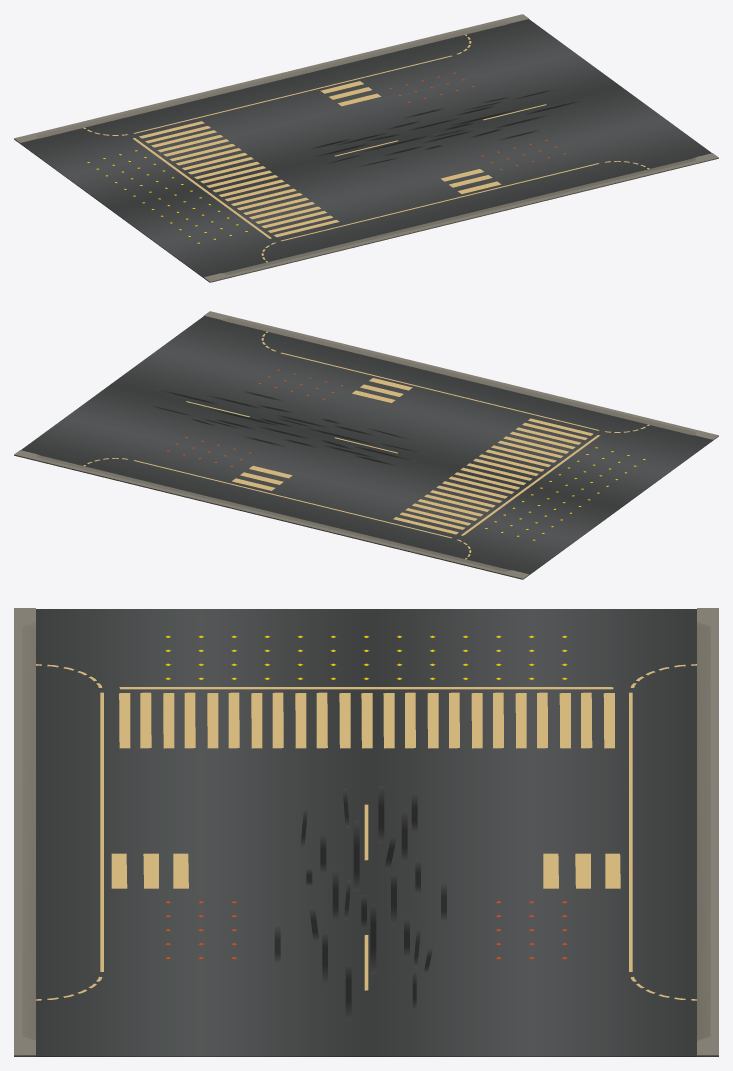
File: tp_runway_02a.glb
The picture shows the model from 3 angles, top to bottom: view 1: azimuth 30°, elevation 25°; view 2: azimuth 150°, elevation 25°; view 3: azimuth 270°, elevation 25°; orthographic projection. The views are drawn at different scales.
Visible parts, largest first — view 1: TP_Runway_02A; view 2: TP_Runway_02A; view 3: TP_Runway_02A.
Part boxes in pixels (bbox=[...]): TP_Runway_02A: bbox=[14, 14, 718, 282]; TP_Runway_02A: bbox=[14, 311, 718, 579]; TP_Runway_02A: bbox=[14, 608, 718, 1056].
Size of the model in its own units: 96 by 0.2 by 64.
1 material, 1 textured.
